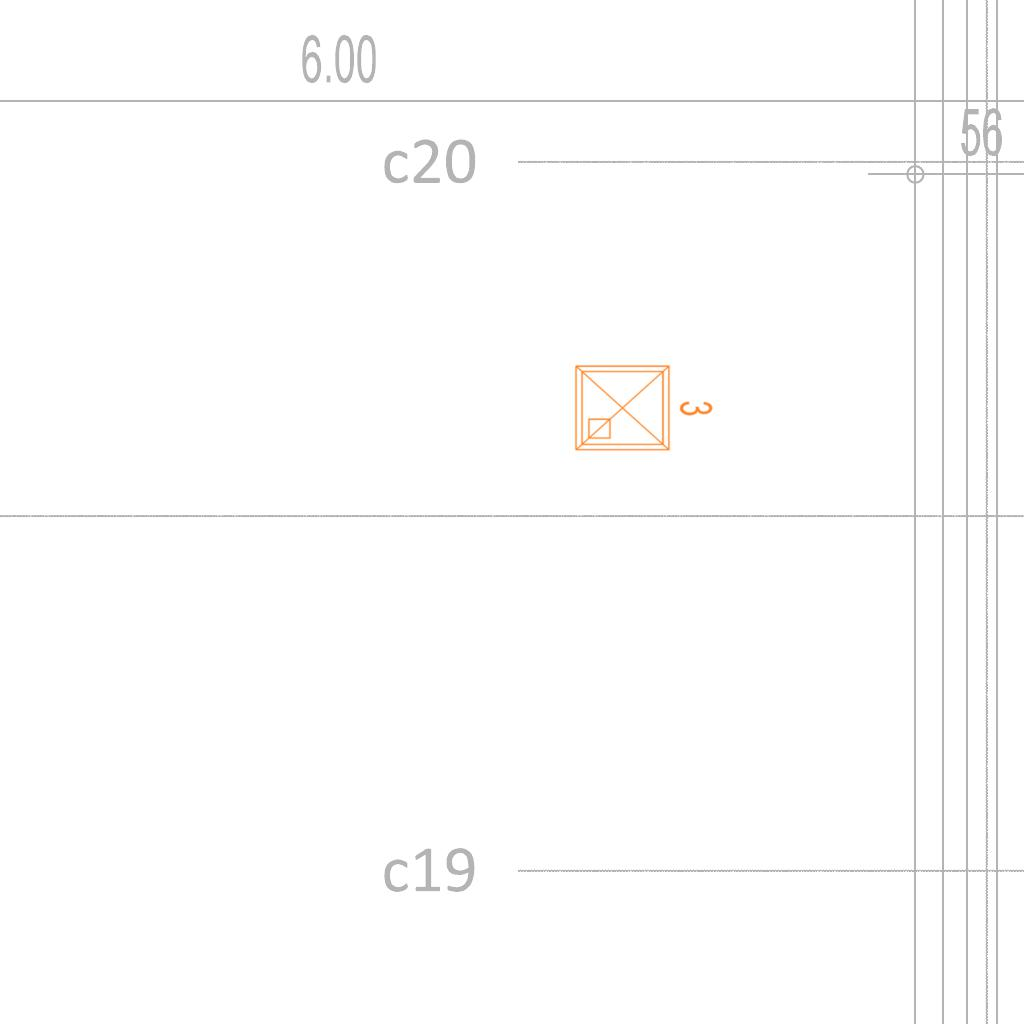Einbaudownlights_LED_Konferenzraeume: (568, 354, 718, 458)
